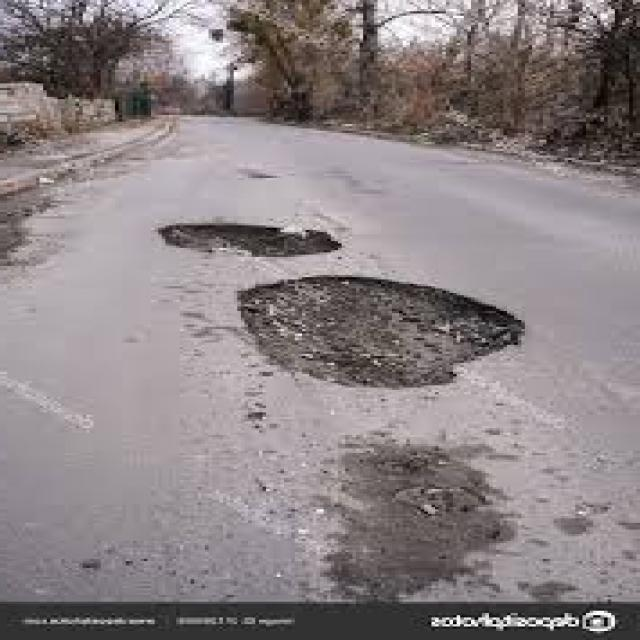Pothole: (231, 271, 531, 392), (152, 220, 350, 260)
